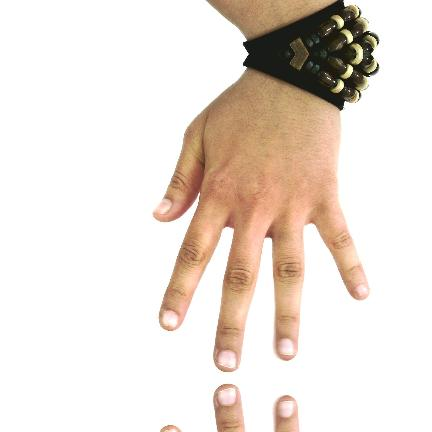Nail: (217, 350, 236, 368), (217, 388, 236, 406), (161, 310, 179, 327), (154, 198, 172, 214), (278, 338, 294, 355), (278, 401, 294, 418), (356, 284, 370, 296), (163, 429, 178, 432)
